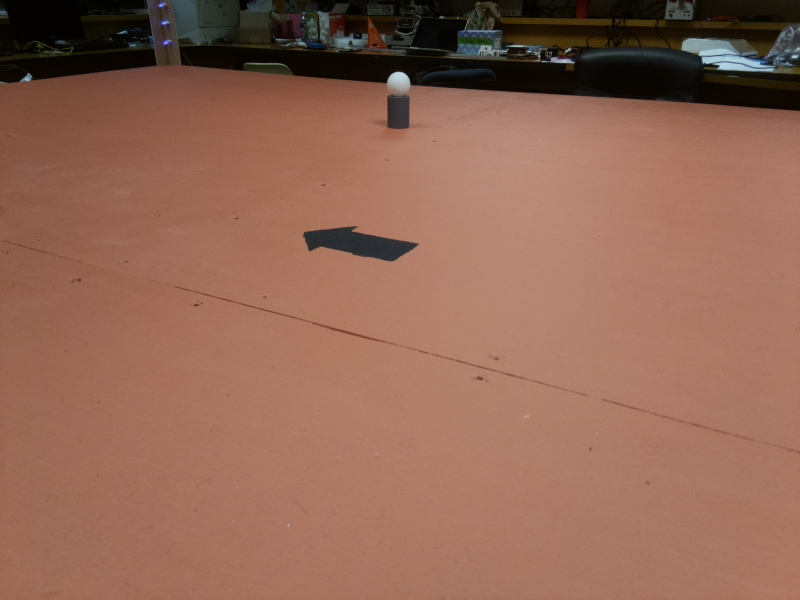obstacle: (387, 69, 411, 132)
start: (303, 222, 420, 268)
